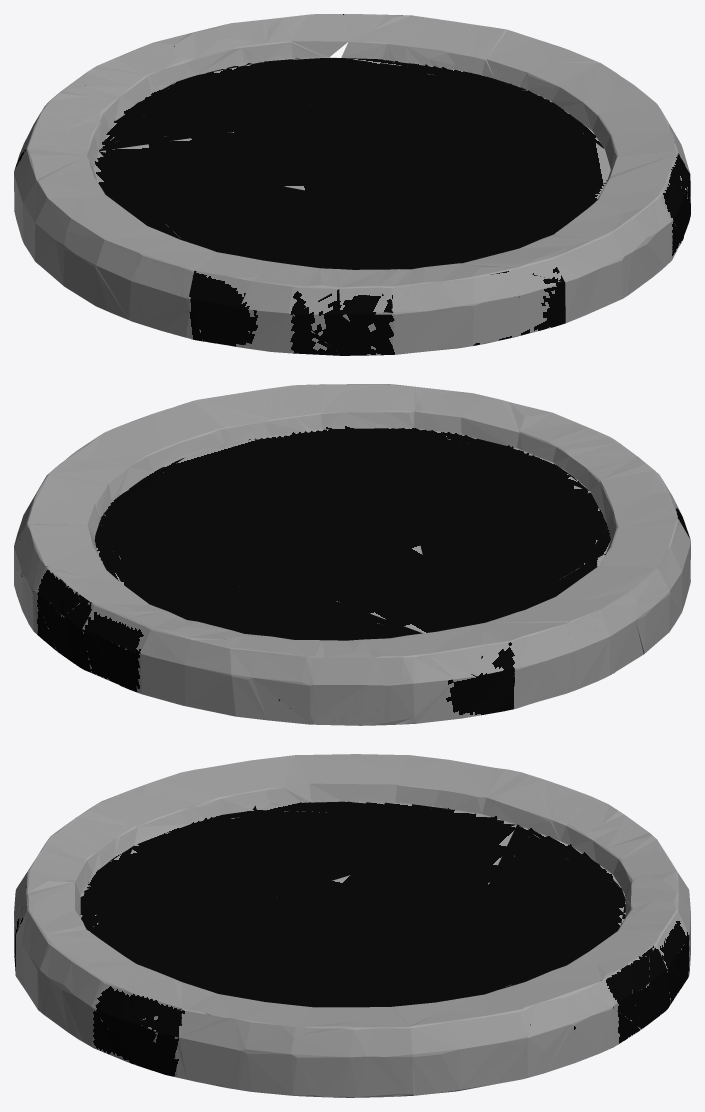
3 views of the same model, one above another, from view 1: azimuth 30°, elevation 25°; view 2: azimuth 150°, elevation 25°; view 3: azimuth 270°, elevation 25° (orthographic).
Parts seen in each view (by area): view 1: OBJ0ac; view 2: OBJ0ac; view 3: OBJ0ac.
Part boxes in pixels (box(x1,y1,x2,y2)): OBJ0ac: box(14, 14, 690, 355); OBJ0ac: box(14, 384, 690, 725); OBJ0ac: box(14, 754, 690, 1097).
Size of the model in its own units: 0.2434 by 0.0276 by 0.2433.
1 material, 1 textured.
